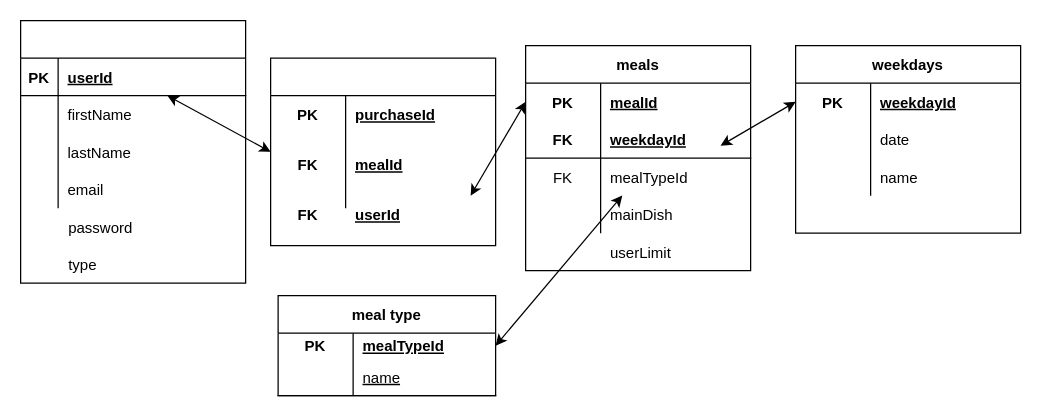
This 1041x416 diagram has some shape labels left out. The shapes that lost their labels are listed below. From the top down, each one's box as (x1, y1, x2, y2) in pixels, then its label:
(19, 19, 246, 283): users
(269, 57, 496, 246): purchases
